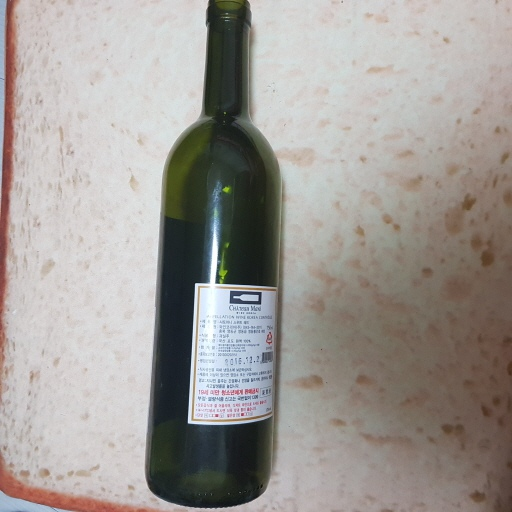Glass_2: (144, 1, 285, 510)
